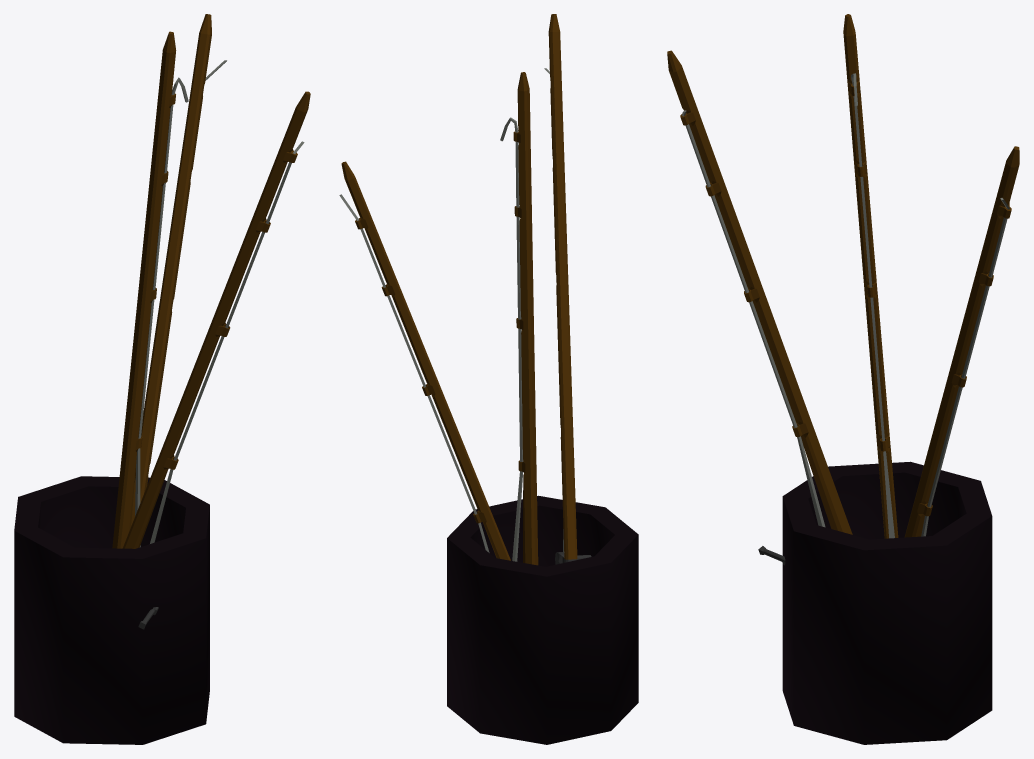
The model's file is rods.fbx.
3 views of the same model, side by side, from view 1: azimuth 30°, elevation 25°; view 2: azimuth 150°, elevation 25°; view 3: azimuth 270°, elevation 25° (orthographic). The views are drawn at different scales.
Visible parts, largest first — view 1: Cube, FishingRod.002, FishingRod.001, FishingRod.003; view 2: Cube, FishingRod.002, FishingRod.001, FishingRod.003; view 3: Cube, FishingRod.001, FishingRod.002, FishingRod.003.
Part boxes in pixels (x1=…): Cube: x1=14, y1=476, x2=209, y2=744; FishingRod.002: x1=112, y1=31, x2=188, y2=548; FishingRod.001: x1=122, y1=91, x2=310, y2=629; FishingRod.003: x1=131, y1=14, x2=226, y2=525; Cube: x1=447, y1=495, x2=638, y2=744; FishingRod.002: x1=500, y1=72, x2=538, y2=565; FishingRod.001: x1=544, y1=14, x2=591, y2=564; FishingRod.003: x1=339, y1=161, x2=510, y2=560; Cube: x1=782, y1=461, x2=992, y2=744; FishingRod.001: x1=667, y1=50, x2=852, y2=565; FishingRod.002: x1=843, y1=14, x2=898, y2=538; FishingRod.003: x1=904, y1=146, x2=1019, y2=537.
Size of the model in its own units: 289 by 726 by 328.
